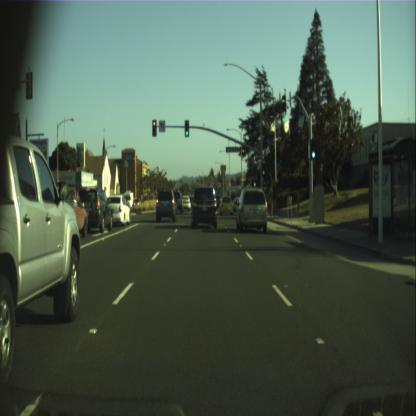Green: (310, 139, 316, 159), (184, 120, 189, 136), (262, 162, 266, 176)
RedLeft: (152, 119, 156, 136)
